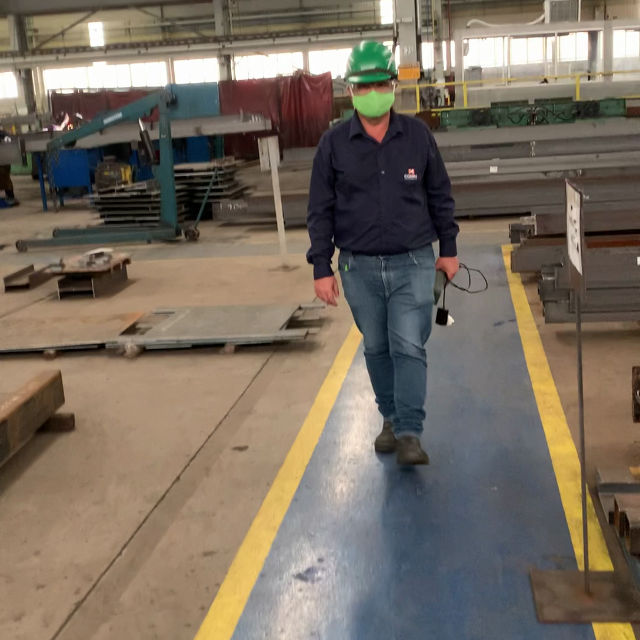eye-glass: (351, 84, 397, 90)
helmet: (342, 40, 397, 83)
mask: (351, 92, 393, 115)
person: (308, 41, 459, 468)
safety-shoe: (392, 430, 431, 467), (373, 418, 397, 455)
